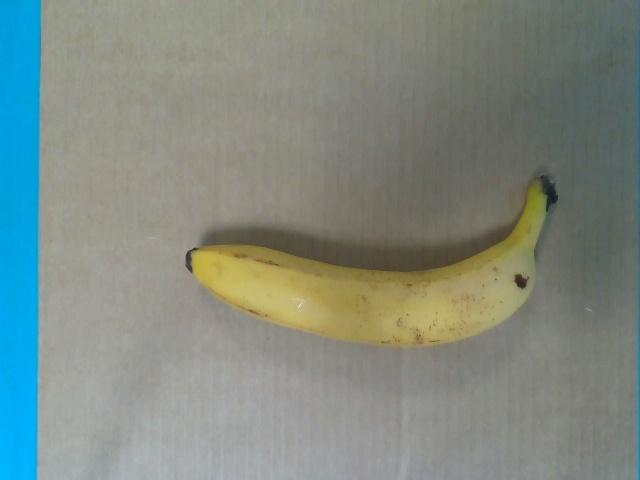banana: (185, 174, 555, 347)
